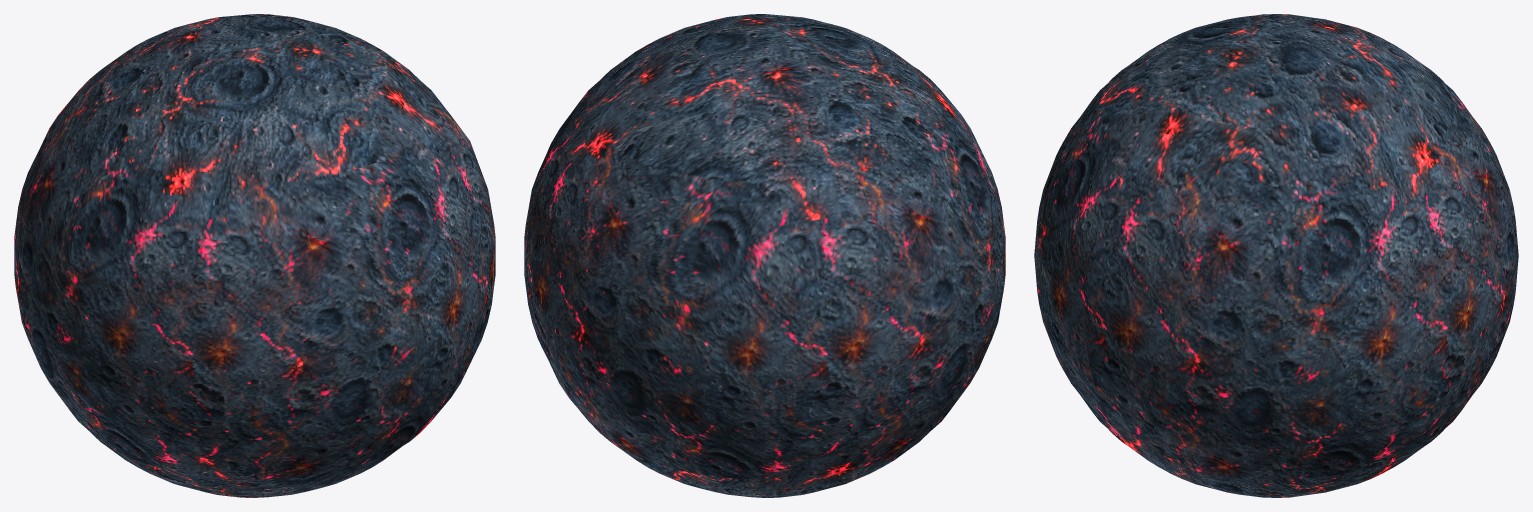
Rendered from planet_014.glb.
3 renders of one model, left to right at view 1: azimuth 30°, elevation 25°; view 2: azimuth 150°, elevation 25°; view 3: azimuth 270°, elevation 25°, orthographic.
Parts seen in each view (by area): view 1: Mesh_0.002; view 2: Mesh_0.002; view 3: Mesh_0.002.
Boxes of the visible parts, x1,y1,x2,y2 form: Mesh_0.002: [14, 14, 495, 497]; Mesh_0.002: [524, 14, 1005, 497]; Mesh_0.002: [1034, 14, 1518, 497].
Bounding box in the file's own units: 1.91 × 1.9 × 1.91.
Materials: 1 (1 with a texture image).
